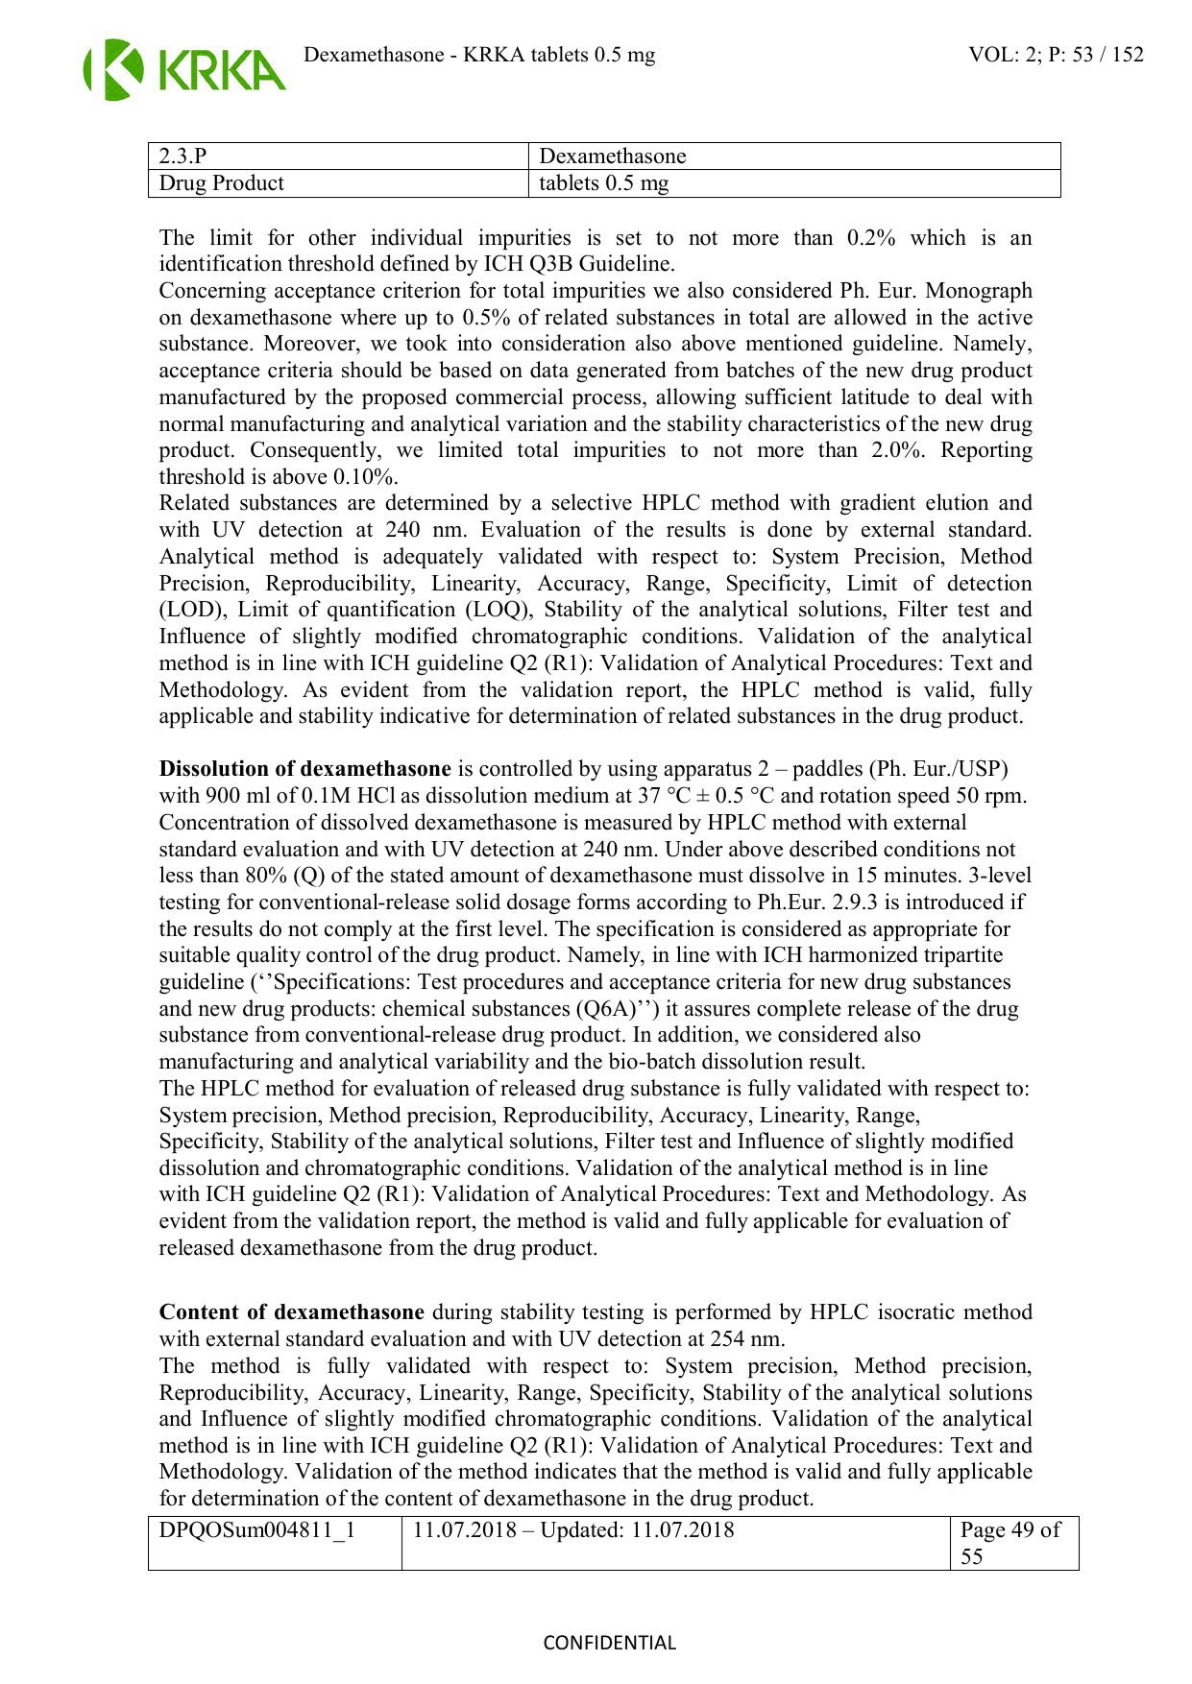full_lined: (146, 141, 1062, 199), (146, 1515, 1080, 1571)
